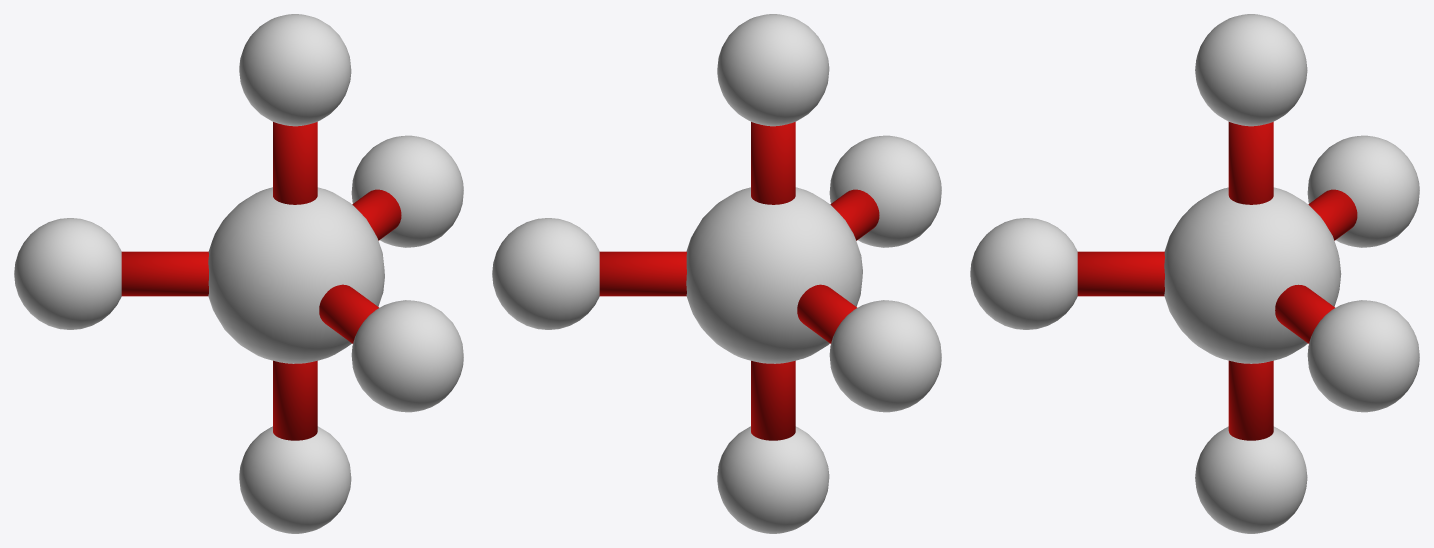
3 views of the same model, side by side, from view 1: azimuth 30°, elevation 25°; view 2: azimuth 150°, elevation 25°; view 3: azimuth 270°, elevation 25° (orthographic).
Parts seen in each view (by area): view 1: Sphere, H, H.001, H.003, H.004, H.002, bond.003, bond, bond.004, bond.001, bond.002; view 2: Sphere, H.003, H, H.002, H.004, H.001, bond.002, bond, bond.004, bond.003, bond.001; view 3: Sphere, H, H.002, H.001, H.004, H.003, bond.001, bond, bond.004, bond.002, bond.003.
Boxes of the visible parts, bbox=[...] form: Sphere: bbox=[208, 187, 384, 363]; H: bbox=[239, 14, 351, 126]; H.001: bbox=[351, 300, 463, 412]; H.003: bbox=[14, 218, 121, 329]; H.004: bbox=[239, 426, 351, 533]; H.002: bbox=[351, 135, 463, 247]; bond.003: bbox=[121, 251, 208, 296]; bond: bbox=[273, 122, 317, 204]; bond.004: bbox=[273, 360, 317, 440]; bond.001: bbox=[319, 284, 379, 343]; bond.002: bbox=[352, 189, 401, 240]; Sphere: bbox=[686, 187, 862, 363]; H.003: bbox=[829, 300, 941, 412]; H: bbox=[717, 14, 829, 126]; H.002: bbox=[492, 218, 599, 329]; H.004: bbox=[717, 426, 829, 533]; H.001: bbox=[829, 135, 941, 247]; bond.002: bbox=[599, 251, 686, 296]; bond: bbox=[751, 122, 795, 204]; bond.004: bbox=[751, 360, 795, 440]; bond.003: bbox=[797, 284, 857, 343]; bond.001: bbox=[830, 189, 879, 240]; Sphere: bbox=[1164, 187, 1341, 363]; H: bbox=[1195, 14, 1307, 126]; H.002: bbox=[1307, 300, 1419, 412]; H.001: bbox=[970, 218, 1077, 329]; H.004: bbox=[1195, 426, 1307, 533]; H.003: bbox=[1307, 135, 1419, 247]; bond.001: bbox=[1077, 251, 1164, 296]; bond: bbox=[1228, 122, 1273, 204]; bond.004: bbox=[1228, 360, 1273, 440]; bond.002: bbox=[1275, 284, 1335, 343]; bond.003: bbox=[1308, 189, 1357, 240].
Bounding box in the file's own units: 446 × 500 × 400.
